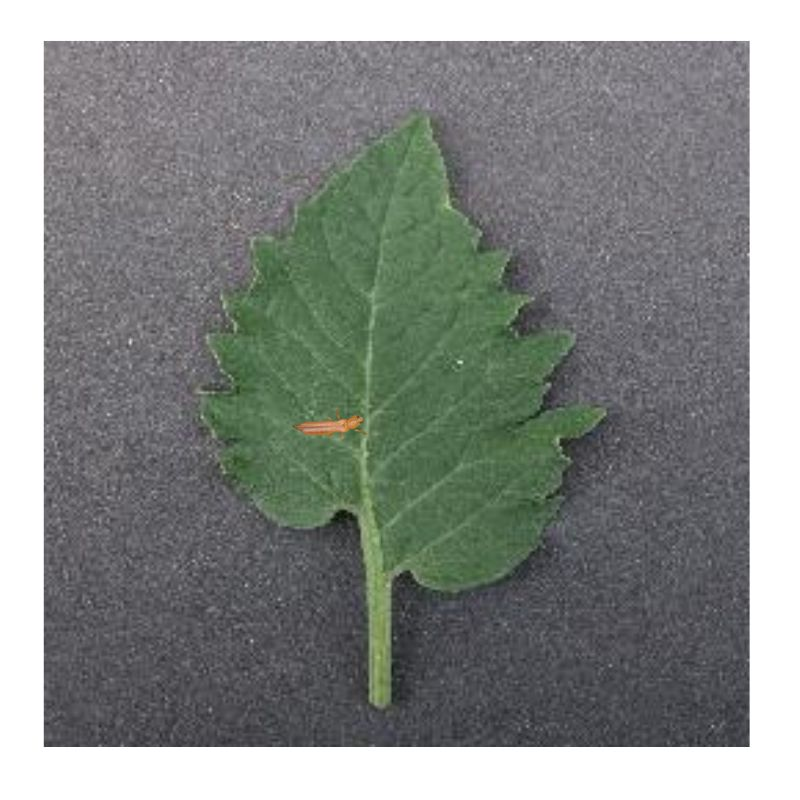thrips: (294, 407, 366, 440)
